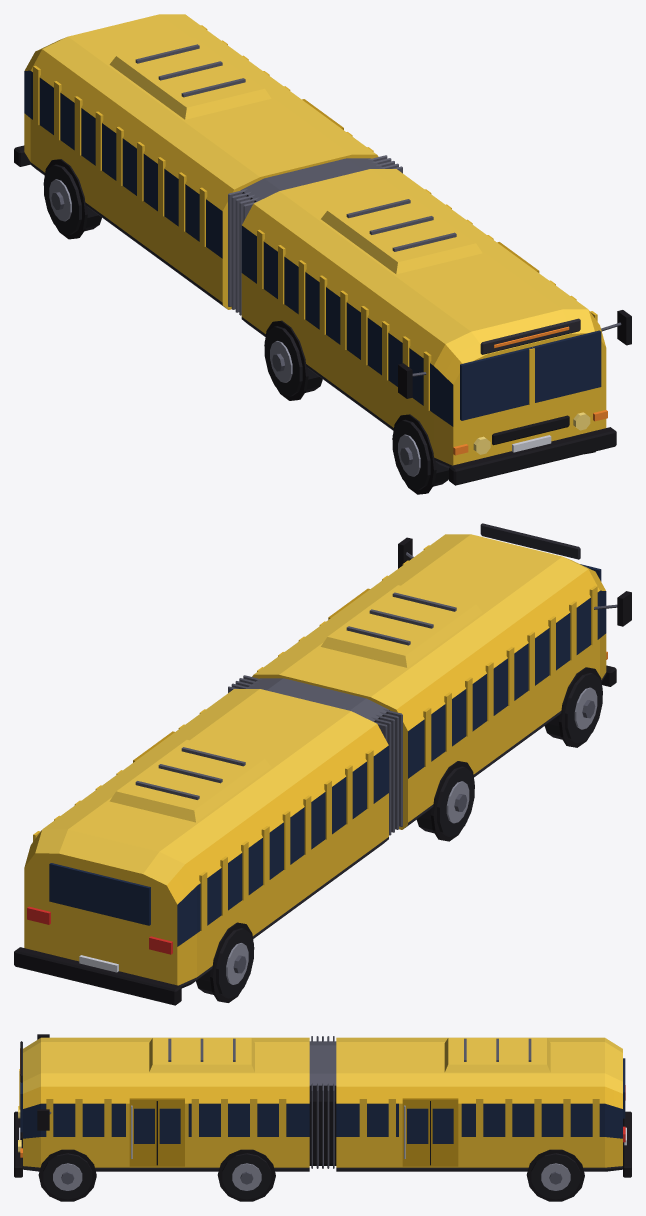
Rendered from bus-articulated.glb.
3 views of the same model, one above another, from view 1: azimuth 30°, elevation 25°; view 2: azimuth 150°, elevation 25°; view 3: azimuth 270°, elevation 25° (orthographic). The views are drawn at different scales.
Visible parts, largest first — view 1: BusArticulated; view 2: BusArticulated; view 3: BusArticulated.
Part boxes in pixels (box(x1,y1,x2,y2)): BusArticulated: box(14, 14, 631, 494); BusArticulated: box(14, 523, 631, 1005); BusArticulated: box(14, 1034, 631, 1201).
Bounding box in the file's own units: 2.03 × 1.52 × 6.9.
Materials: 1 (1 with a texture image).
